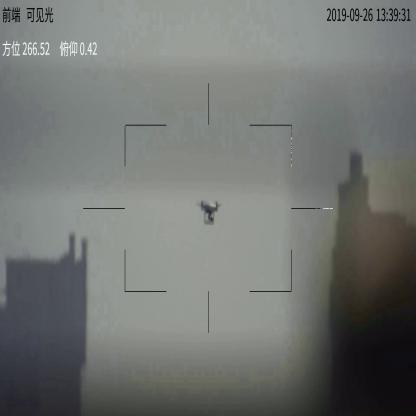uav: (195, 198, 221, 224)
